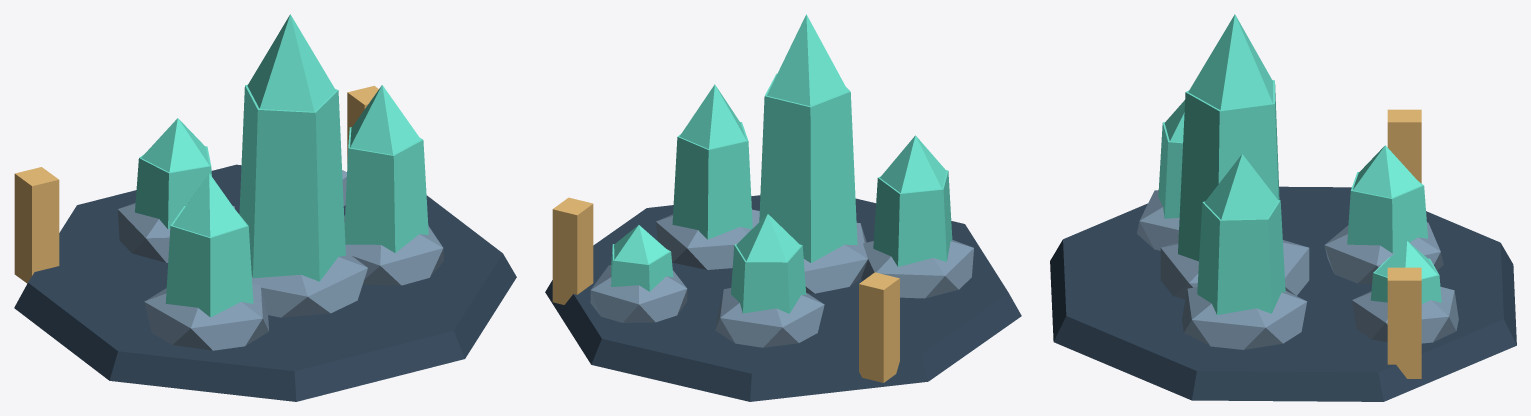
The model's file is Field_Crystal.fbx.
The picture shows the model from 3 angles, left to right: view 1: azimuth 30°, elevation 25°; view 2: azimuth 150°, elevation 25°; view 3: azimuth 270°, elevation 25°; orthographic projection. The views are drawn at different scales.
Visible parts, largest first — view 1: Field_Crystal; view 2: Field_Crystal; view 3: Field_Crystal.
Boxes of the visible parts, x1,y1,x2,y2 form: Field_Crystal: (14,14,516,401); Field_Crystal: (545,14,1021,401); Field_Crystal: (1050,14,1516,401).
Bounding box in the file's own units: 2 × 1.45 × 2.
